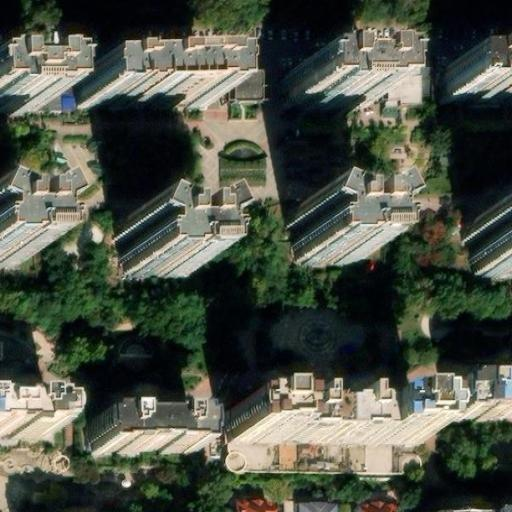building: (233, 437, 426, 474), (232, 402, 365, 446), (123, 210, 201, 272), (296, 198, 374, 260), (80, 69, 215, 104), (90, 419, 199, 454), (291, 60, 381, 102), (365, 406, 425, 445), (452, 58, 512, 96), (453, 398, 512, 435), (474, 216, 512, 273), (0, 65, 52, 103), (231, 65, 266, 99), (232, 499, 277, 512), (358, 500, 400, 512), (298, 501, 341, 512)
